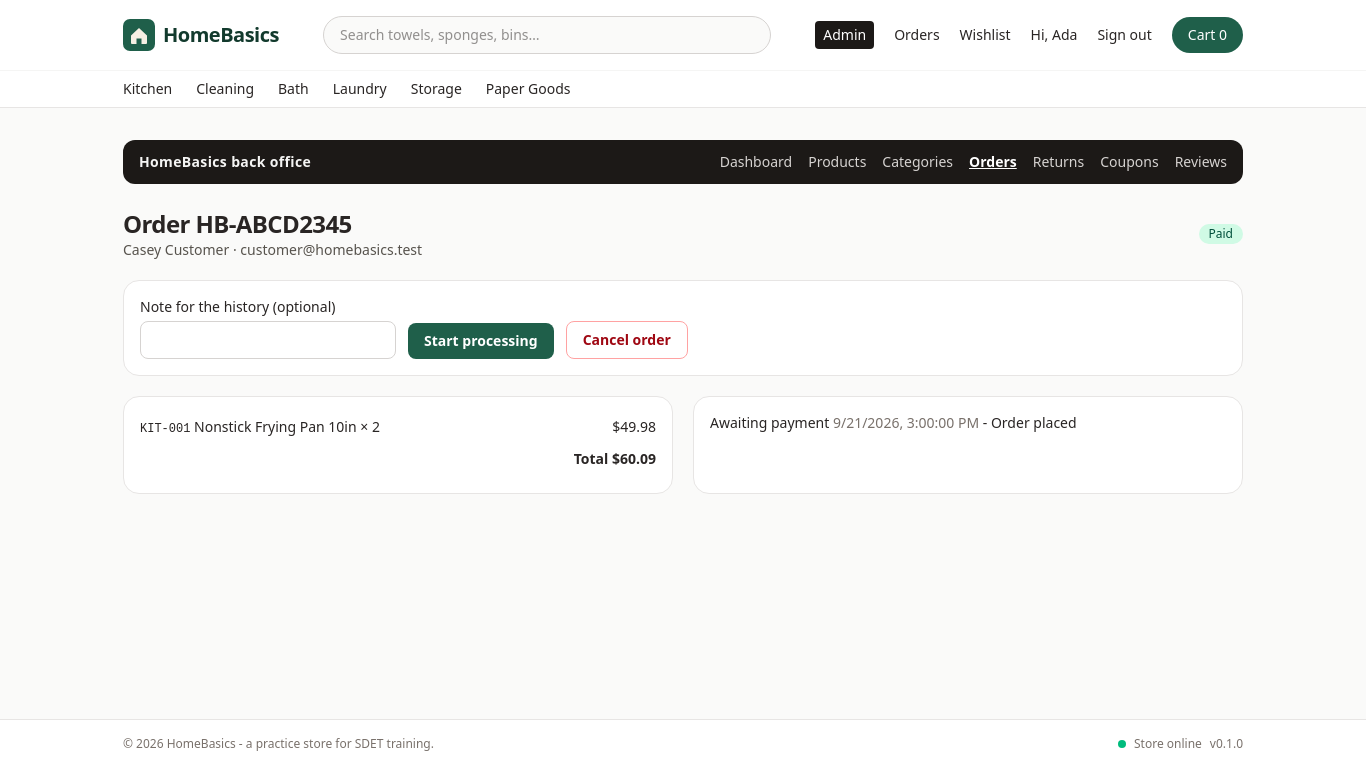
Test: admin orders (ADM-03) › offers exactly the next steps the server allows, and applies one with a note
Expected: the button with test id "admin-order-action-processing" reads "Start processing", [408,323,554,359]
Expected: the button with test id "admin-order-action-cancelled" is shown, [566,321,688,359]
In the field with test id "admin-order-note": [268, 340] box [140,321,396,359], type "Packing now"
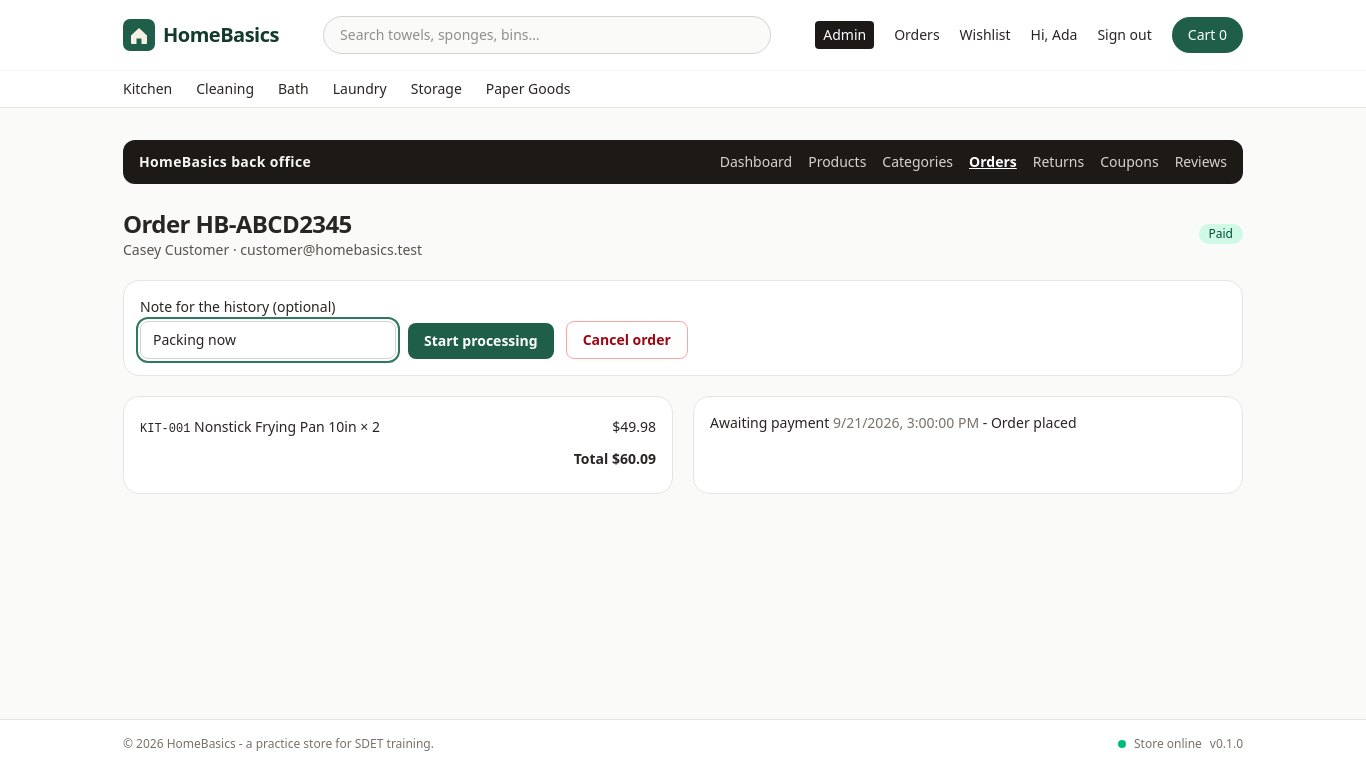
Click the button with test id "admin-order-action-processing": [481, 341] box [408,323,554,359]
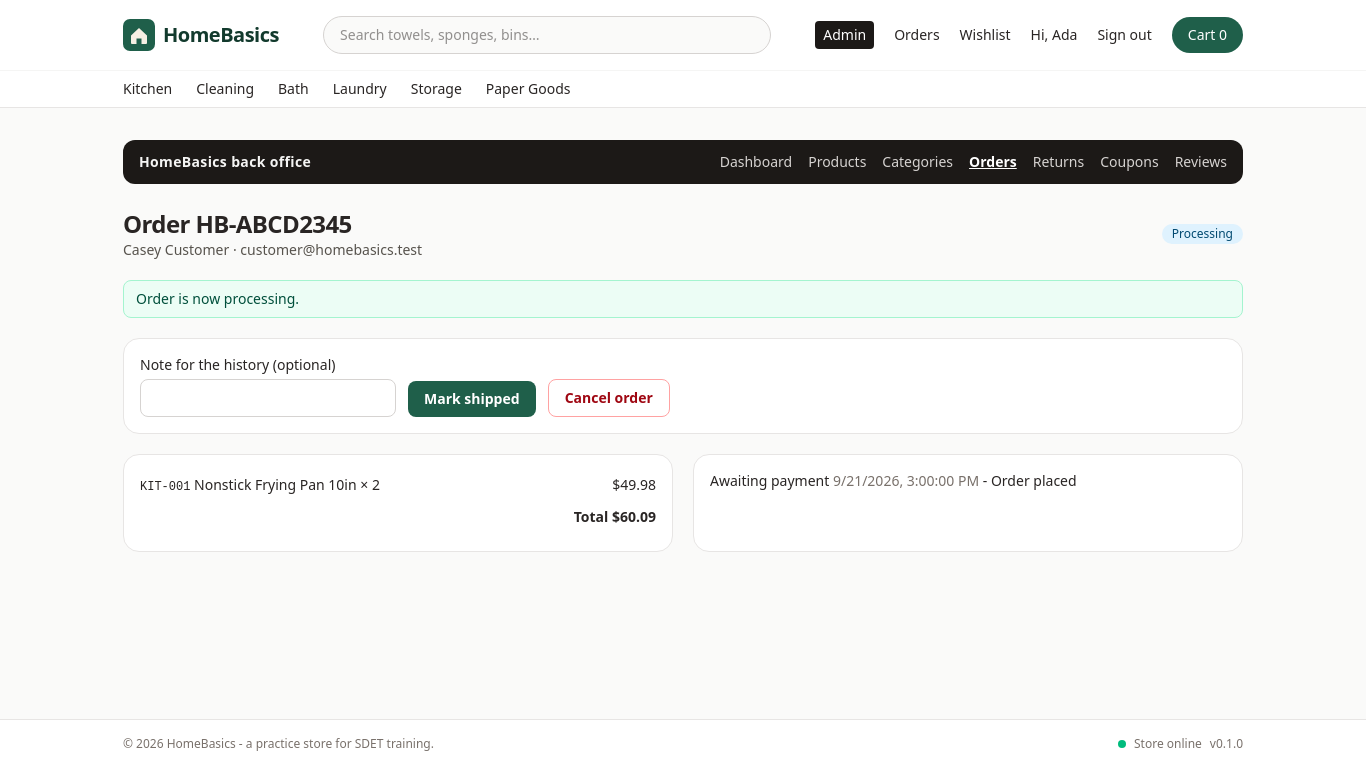
Now the message with test id "admin-notice" reads "Order is now processing.", box [136,289,299,308]
Now the button with test id "admin-order-action-shipped" is shown, box [408,381,536,417]
